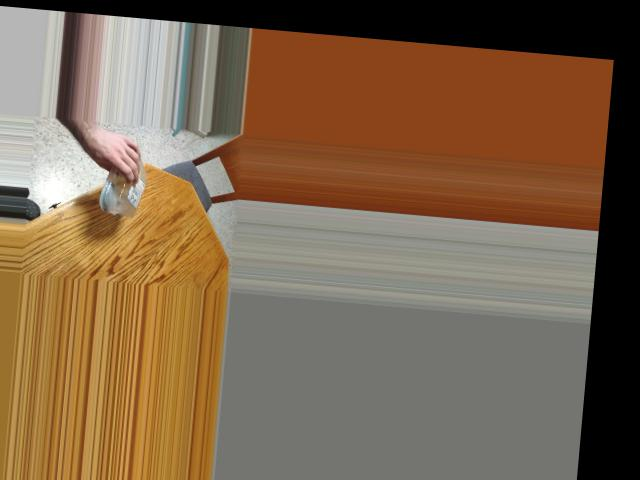cheese: (93, 138, 151, 205)
